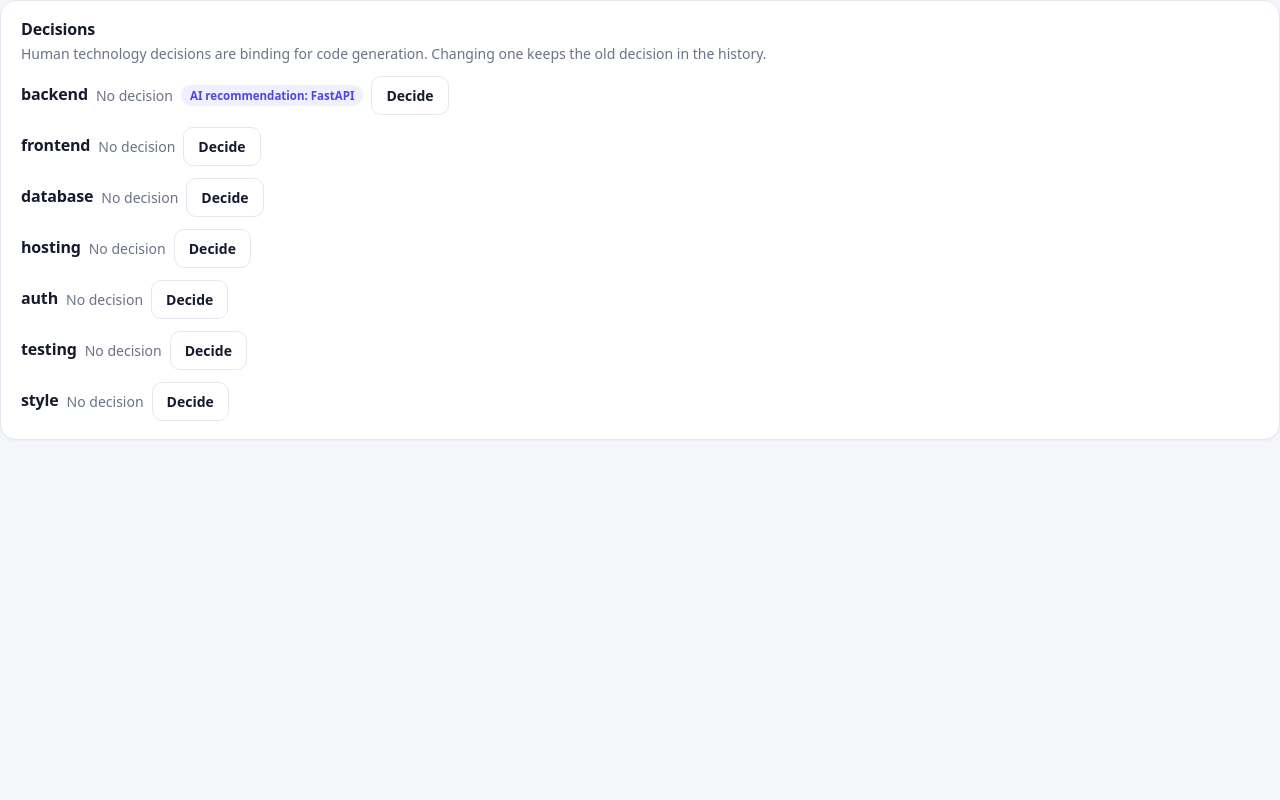
Test case: DecisionsCard › lists areas, marks AI recommendations and pre-fills them
Check: the text "AI recommendation: FastAPI" is shown, box [181,85,364,106]
Click the button "Decide" next to "FastAPI" at coordinates (410, 96), box [371,76,449,115]
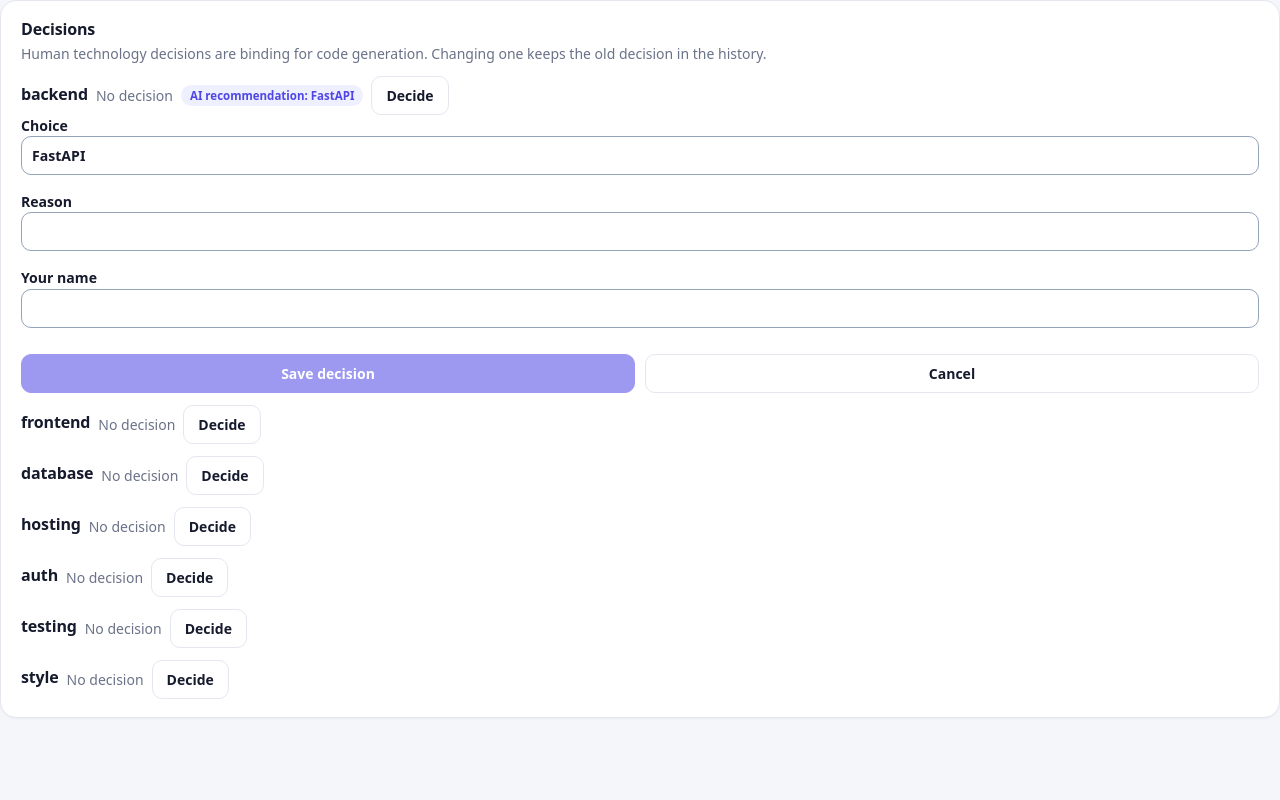
Check: the field named "Choice for backend" holds "FastAPI", box [21,136,1259,175]
